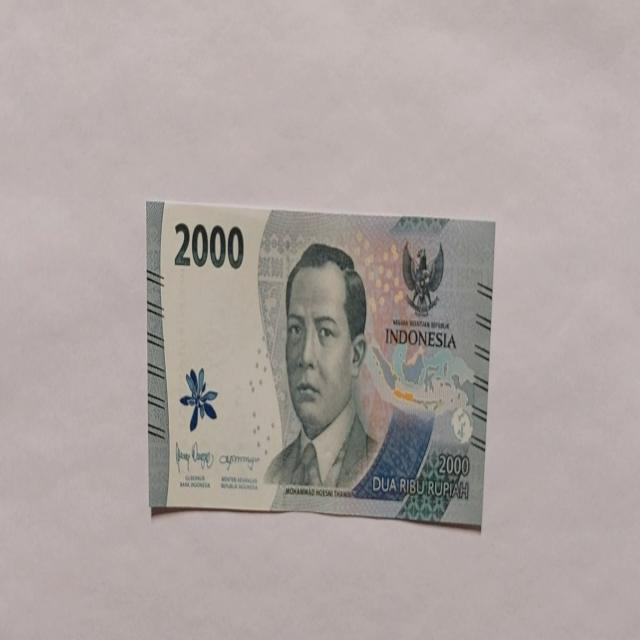dua ribu rupiah: (147, 199, 496, 527), (262, 242, 380, 492)
